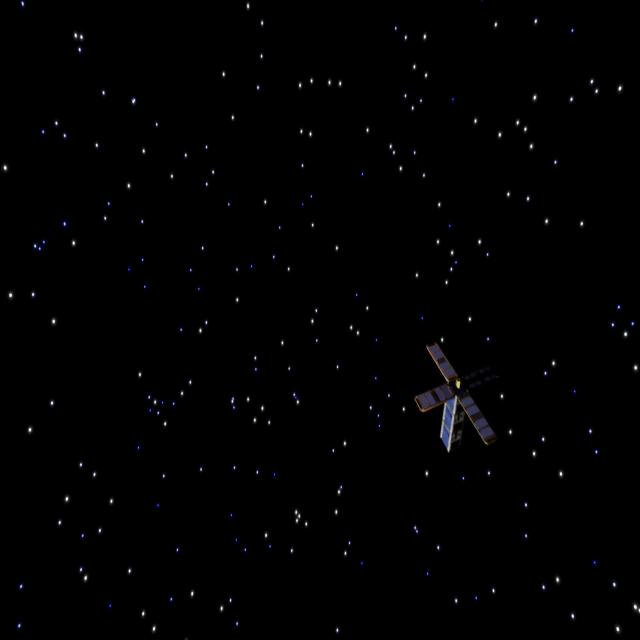satellite: (404, 328, 504, 468)
